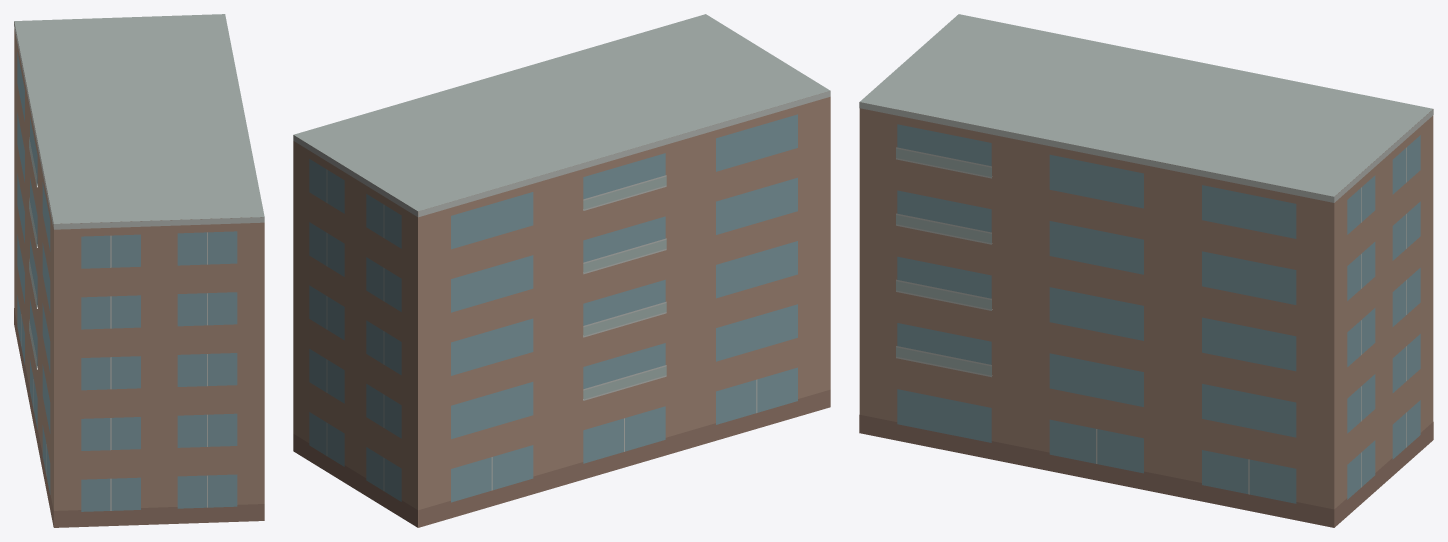
The model's file is survey-upis-32921149.glb.
3 views of the same model, side by side, from view 1: azimuth 30°, elevation 25°; view 2: azimuth 150°, elevation 25°; view 3: azimuth 270°, elevation 25° (orthographic). The views are drawn at different scales.
Parts seen in each view (by area): view 1: survey-upis-32921149.tmp; view 2: survey-upis-32921149.tmp; view 3: survey-upis-32921149.tmp.
Part boxes in pixels (left/top/right/bottom): survey-upis-32921149.tmp: left=14, top=14, right=264, bottom=527; survey-upis-32921149.tmp: left=293, top=14, right=830, bottom=527; survey-upis-32921149.tmp: left=859, top=14, right=1433, bottom=527.
Bounding box in the file's own units: 15.4 × 13 × 20.43.
